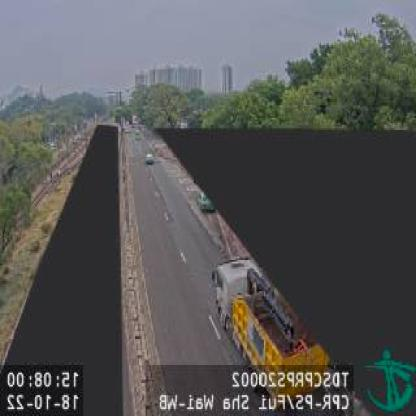Car: (145, 151, 155, 164)
Truck: (212, 258, 329, 406)
